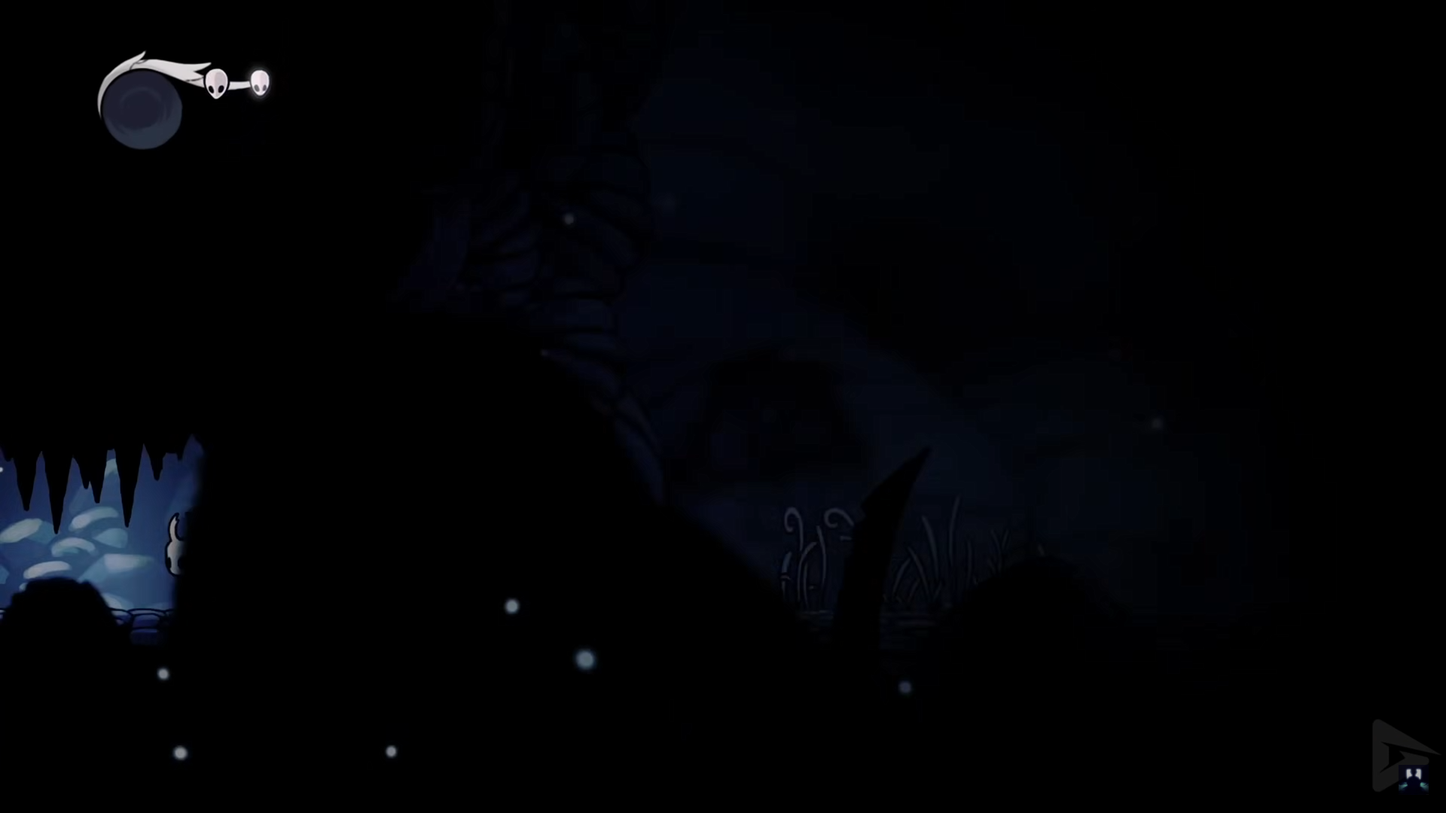HK: (157, 508, 193, 610)
